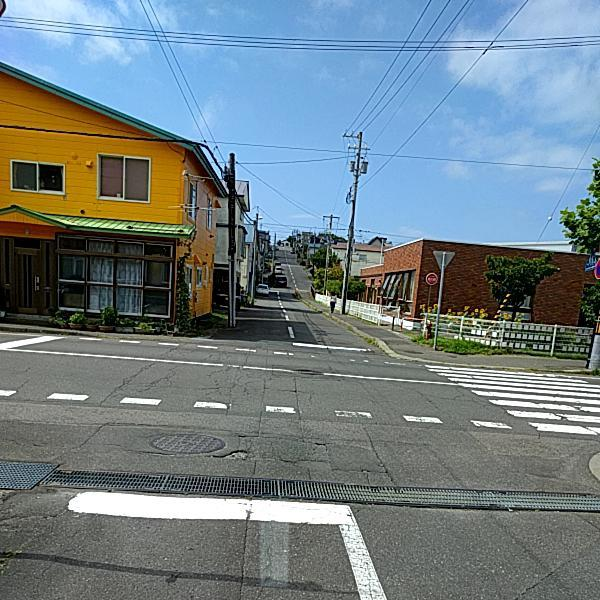D20: (121, 347, 284, 399)
D40: (212, 445, 248, 465)
D44: (279, 410, 507, 449)
D50: (148, 430, 227, 455), (289, 363, 329, 379)
